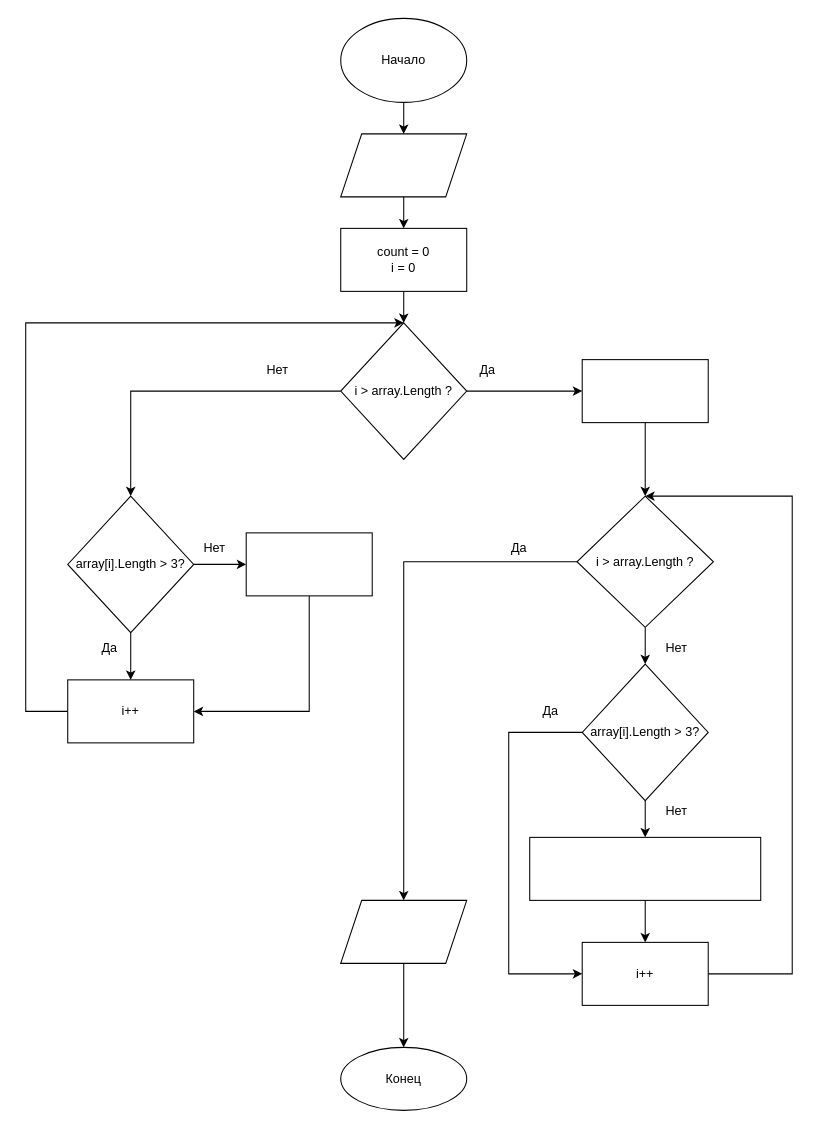
Image size: 819x1129. Some labels were removed from this diagram. Each missing label, with the centre of its shape:
"count++" belongs at (x=308, y=564).
"result [result.Length - count ] = array[i] count--" belongs at (x=645, y=868).
"string[] result = new string[count] i = 0" belongs at (x=644, y=391).
"Вывод result" belongs at (x=403, y=931).
"Задаём массив строк array" belongs at (x=403, y=165).
